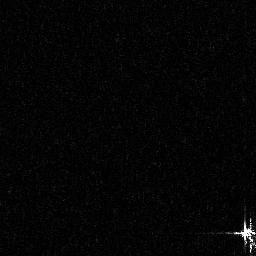ship: (210, 213, 256, 256)
